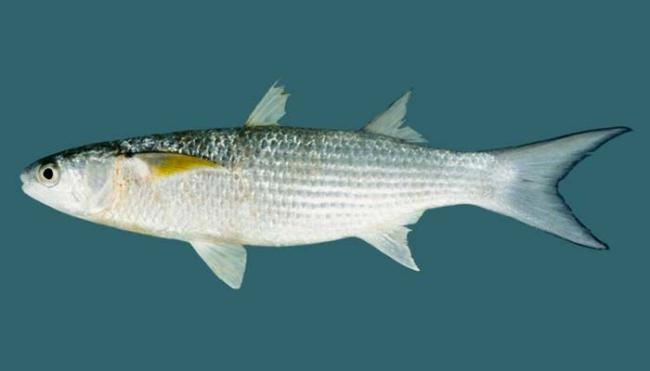fish: (19, 76, 635, 291)
